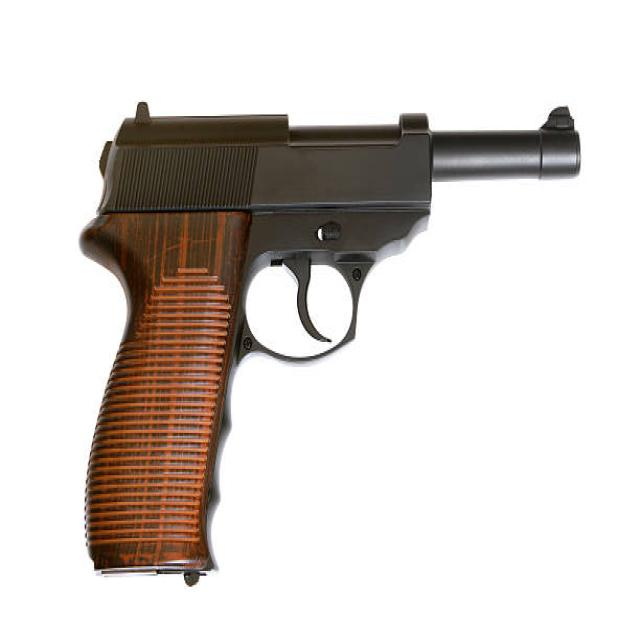pistol: (78, 99, 586, 595)
